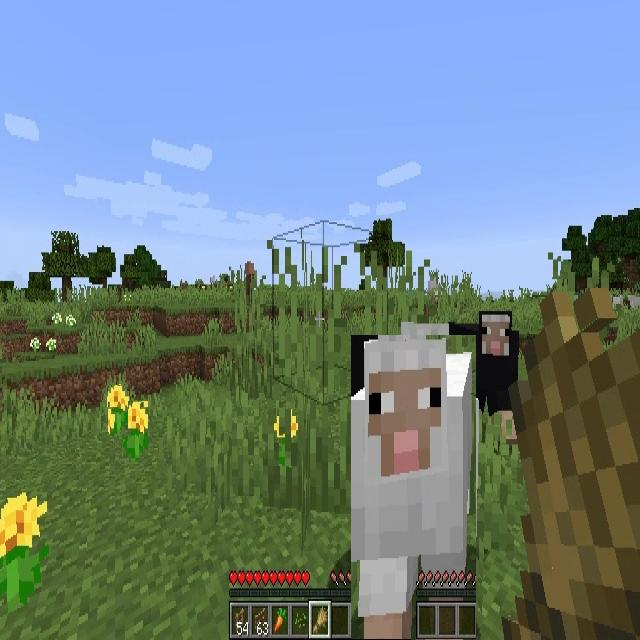flower: (0, 494, 49, 608), (122, 401, 148, 458), (274, 408, 297, 466), (108, 385, 128, 436), (30, 338, 41, 358), (51, 311, 61, 328), (47, 337, 57, 353), (66, 313, 75, 329)
sheep: (351, 335, 476, 639), (476, 310, 521, 418), (626, 294, 640, 310), (612, 294, 623, 310)
